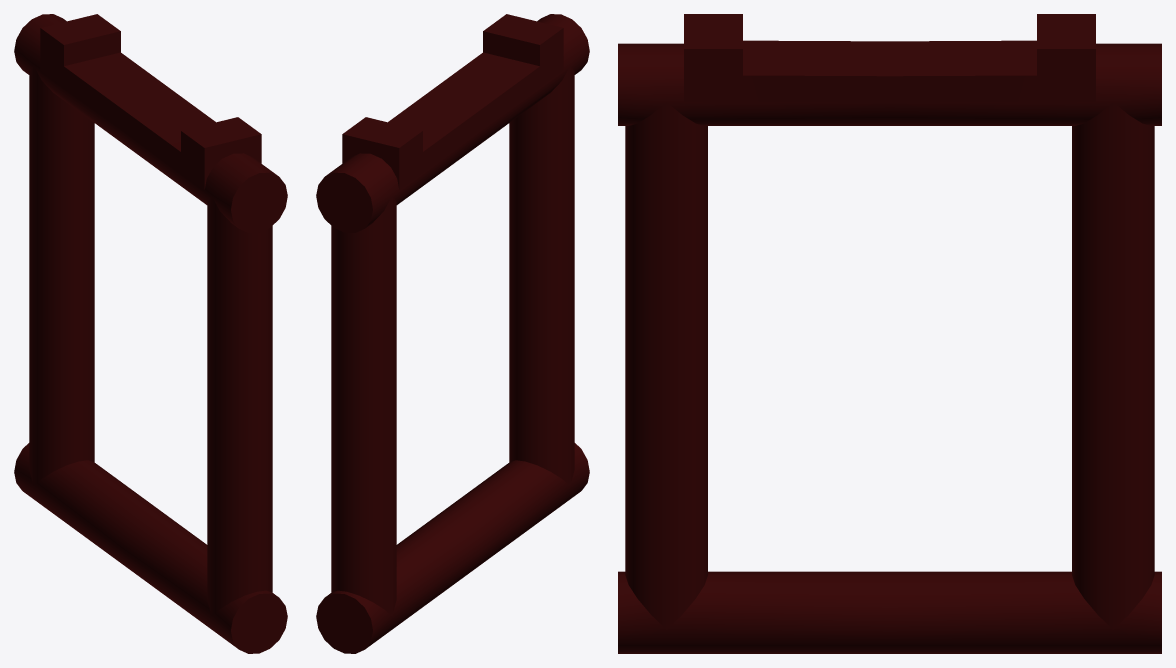
Rendered from quad_brake_tie.obj.
3 renders of one model, left to right at view 1: azimuth 30°, elevation 25°; view 2: azimuth 150°, elevation 25°; view 3: azimuth 270°, elevation 25°, orthographic. The views are drawn at different scales.
Visible parts, largest first — view 1: quad_tie.007; view 2: quad_tie.007; view 3: quad_tie.007.
Boxes of the visible parts, <box> form: quad_tie.007: <box>14,14,287,653</box>; quad_tie.007: <box>316,14,589,653</box>; quad_tie.007: <box>618,14,1161,653</box>.
Size of the model in its own units: 0.1412 by 1.16 by 0.924.
